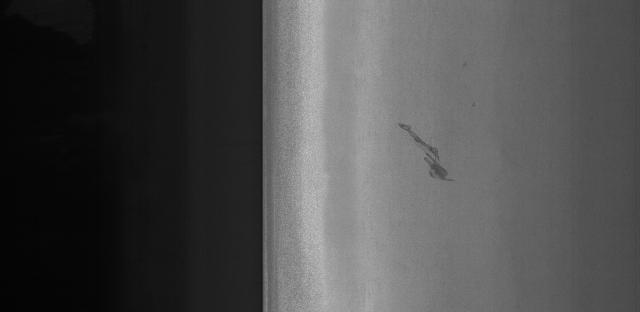water_spot: (389, 118, 459, 191)
